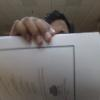notebook: (0, 31, 99, 99)
